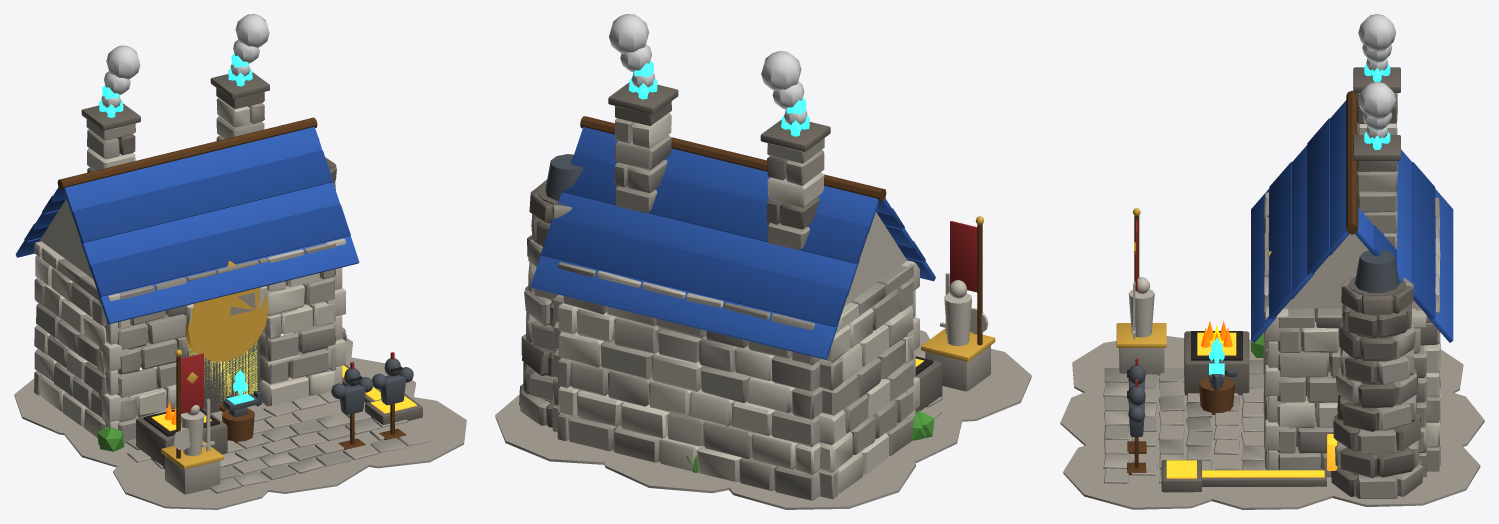
Rendered from kuznia_poz20.glb.
3 views of the same model, side by side, from view 1: azimuth 30°, elevation 25°; view 2: azimuth 150°, elevation 25°; view 3: azimuth 270°, elevation 25° (orthographic). The views are drawn at different scales.
Visible parts, largest first — view 1: kuznia_poz20; view 2: kuznia_poz20; view 3: kuznia_poz20.
Part boxes in pixels (bbox=[...]): kuznia_poz20: bbox=[14, 14, 466, 509]; kuznia_poz20: bbox=[495, 14, 1031, 509]; kuznia_poz20: bbox=[1060, 14, 1484, 509].
Bounding box in the file's own units: 8.18 × 8.37 × 8.46.
